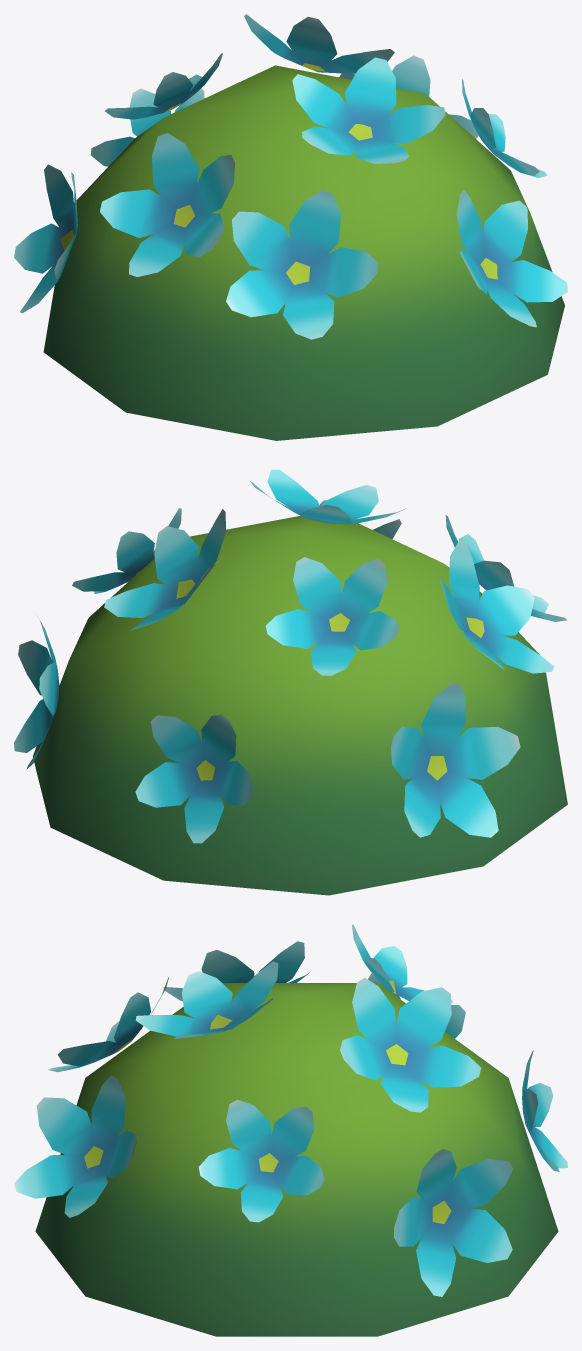
The model's file is Flower_Decoration_09.fbx.
The picture shows the model from 3 angles, top to bottom: view 1: azimuth 30°, elevation 25°; view 2: azimuth 150°, elevation 25°; view 3: azimuth 270°, elevation 25°; orthographic projection. The views are drawn at different scales.
Visible parts, largest first — view 1: Flower.017; view 2: Flower.017; view 3: Flower.017.
Boxes of the visible parts, left/top/right/bottom form: Flower.017: left=14, top=14, right=567, bottom=440; Flower.017: left=14, top=469, right=567, bottom=895; Flower.017: left=14, top=924, right=567, bottom=1336.
Size of the model in its own units: 201 by 115 by 212.
